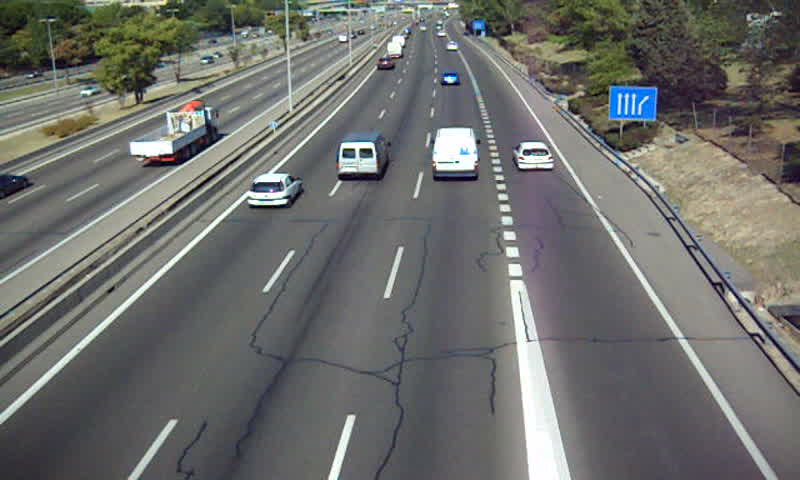car: (248, 172, 304, 207), (513, 140, 554, 170), (440, 70, 461, 86), (376, 58, 394, 70)
van: (431, 127, 479, 179), (339, 133, 390, 180)
